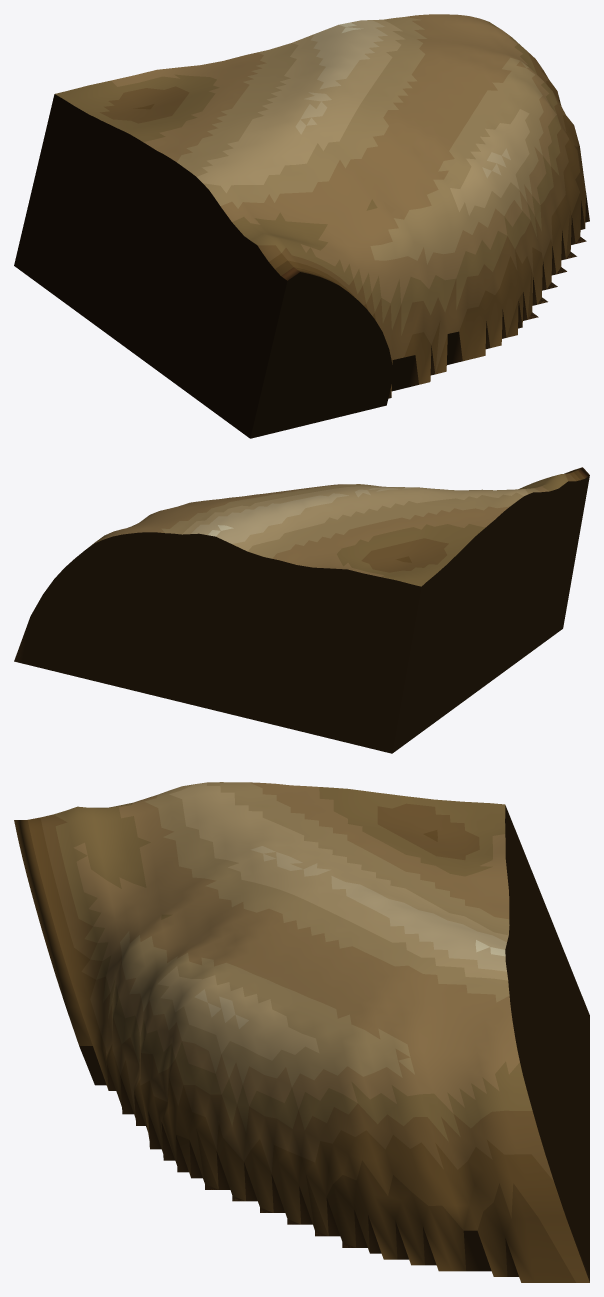
File: tan_crater_br.glb
The picture shows the model from 3 angles, top to bottom: view 1: azimuth 30°, elevation 25°; view 2: azimuth 150°, elevation 25°; view 3: azimuth 270°, elevation 25°; orthographic projection. The views are drawn at different scales.
Visible parts, largest first — view 1: tan_crater_br; view 2: tan_crater_br; view 3: tan_crater_br.
Boxes of the visible parts, x1,y1,x2,y2 form: tan_crater_br: (14, 14, 589, 438); tan_crater_br: (14, 467, 589, 753); tan_crater_br: (14, 782, 589, 1282).
Bounding box in the file's own units: 23 × 9.44 × 20.94.
